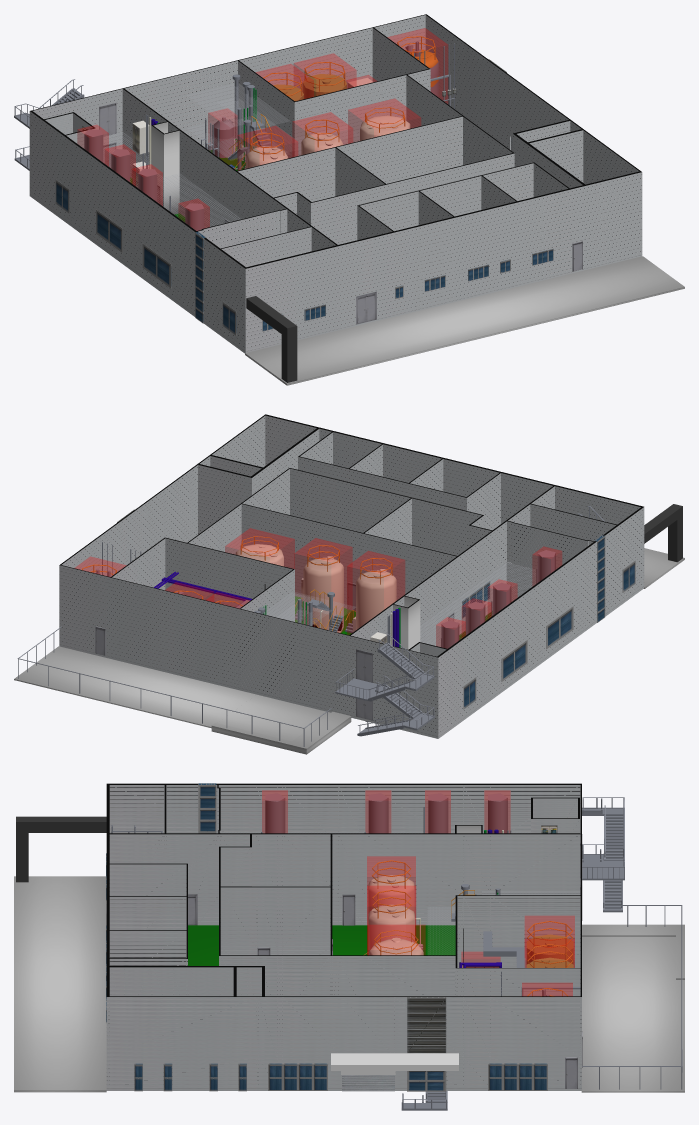
Rendered from soulbrain_T6-3-2F.glb.
3 views of the same model, one above another, from view 1: azimuth 30°, elevation 25°; view 2: azimuth 150°, elevation 25°; view 3: azimuth 270°, elevation 25° (orthographic). The views are drawn at different scales.
Visible parts, largest first — view 1: Box009, Box233, T6-3-2F, T6-3-2F A, equipment-T6-3-2F-007, Line1000, Group308, equipment-T6-3-2F-005, equipment-T6-3-2F-009, equipment-T6-3-2F-008, equipment-T6-3-2F-001, Line674 (+9 smaller); view 2: Box009, Plane015, T6-3-2F, T6-3-2F A, equipment-T6-3-2F-008, equipment-T6-3-2F-009, Group308, equipment-T6-3-2F-007, Line674, Line1000, Line623, Box233 (+6 smaller); view 3: Box009, Box233, T6-3-2F, Plane015, T6-3-2F A, Plane011, Group308, Box186, equipment-T6-3-2F-008, equipment-T6-3-2F-009, Box226, equipment-T6-3-2F-006 (+10 smaller).
Boxes of the visible parts, x1,y1,x2,y2 form: Box009: [29, 14, 642, 353]; Box233: [245, 256, 684, 385]; T6-3-2F: [14, 79, 582, 382]; T6-3-2F A: [99, 102, 410, 203]; equipment-T6-3-2F-007: [348, 99, 420, 143]; Line1000: [151, 121, 179, 214]; Group308: [84, 129, 204, 230]; equipment-T6-3-2F-005: [294, 53, 356, 98]; equipment-T6-3-2F-009: [237, 126, 297, 170]; equipment-T6-3-2F-008: [292, 112, 352, 156]; equipment-T6-3-2F-001: [388, 28, 447, 103]; Line674: [103, 132, 239, 227]; Box009: [59, 414, 644, 738]; Plane015: [14, 646, 351, 754]; T6-3-2F: [95, 504, 682, 736]; T6-3-2F A: [235, 536, 396, 720]; equipment-T6-3-2F-008: [294, 538, 352, 632]; equipment-T6-3-2F-009: [347, 551, 404, 634]; Group308: [441, 550, 555, 648]; equipment-T6-3-2F-007: [225, 528, 294, 568]; Line674: [403, 563, 535, 649]; Line1000: [393, 595, 420, 649]; Line623: [17, 626, 331, 746]; Box233: [644, 548, 684, 588]; Box009: [106, 783, 581, 1090]; Box233: [14, 876, 106, 1092]; T6-3-2F: [16, 783, 624, 1110]; Plane015: [581, 924, 684, 1092]; T6-3-2F A: [363, 834, 582, 967]; Plane011: [188, 925, 455, 965]; Group308: [265, 793, 507, 833]; Box186: [407, 997, 446, 1091]; equipment-T6-3-2F-008: [367, 886, 415, 954]; equipment-T6-3-2F-009: [367, 856, 415, 954]; Box226: [331, 1053, 458, 1070]; equipment-T6-3-2F-006: [525, 916, 574, 967].
Size of the model in its own units: 36.11 by 11.16 by 45.33.
Materials: 44 (36 with a texture image).
